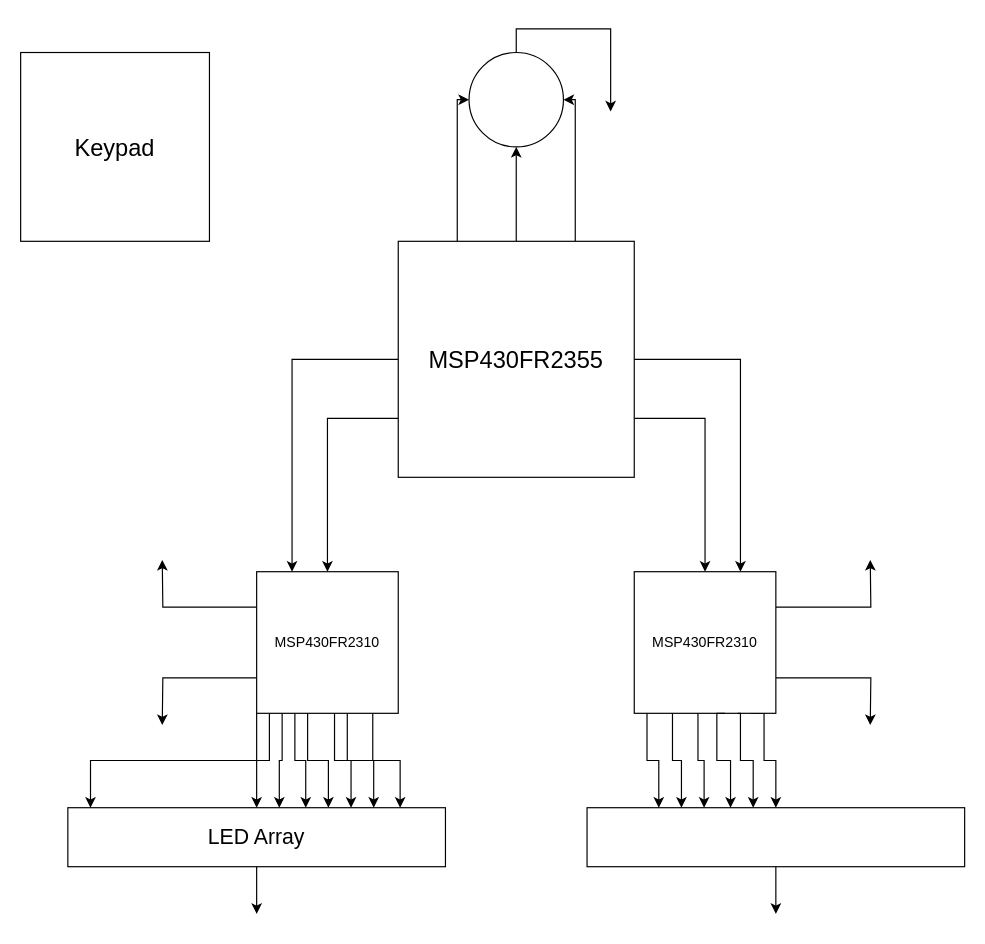
The diagram is 985 pixels wide and 944 high, and some of its shapes have lost their labels. Each missing label, with the centre of its shape:
"LCD Display" goes at (x=775, y=837).
"RGB LED" goes at (x=515, y=99).
